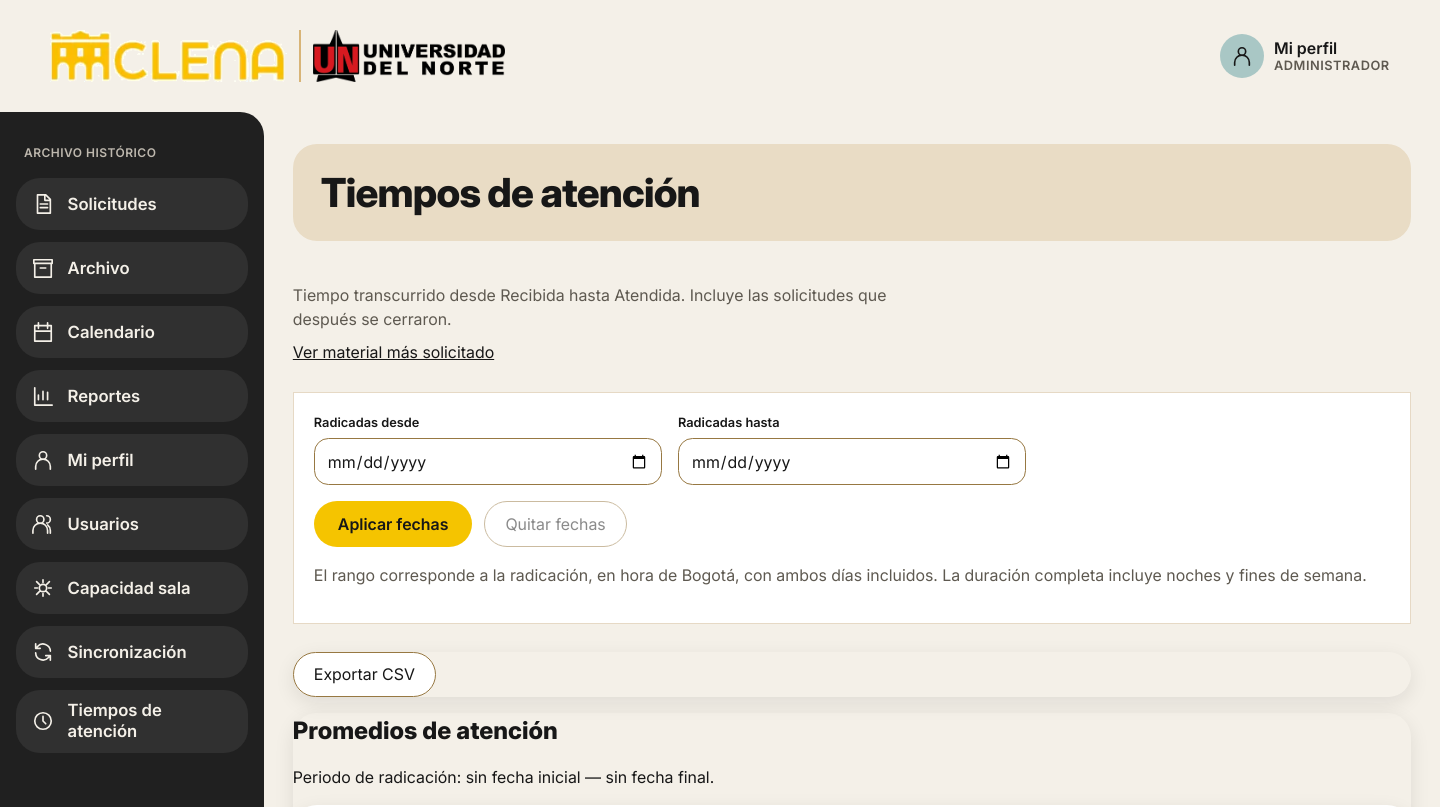
Scenario: CSV export UI › downloads attention-times with applied filters, ignoring edits not yet applied
Expected: the button "Exportar CSV" is enabled, [293,652,436,697]
Type "2026-11-01" into the date field labelled "Radicadas desde".
click(488, 462); type("2026-11-01")  # box [314,438,662,485]
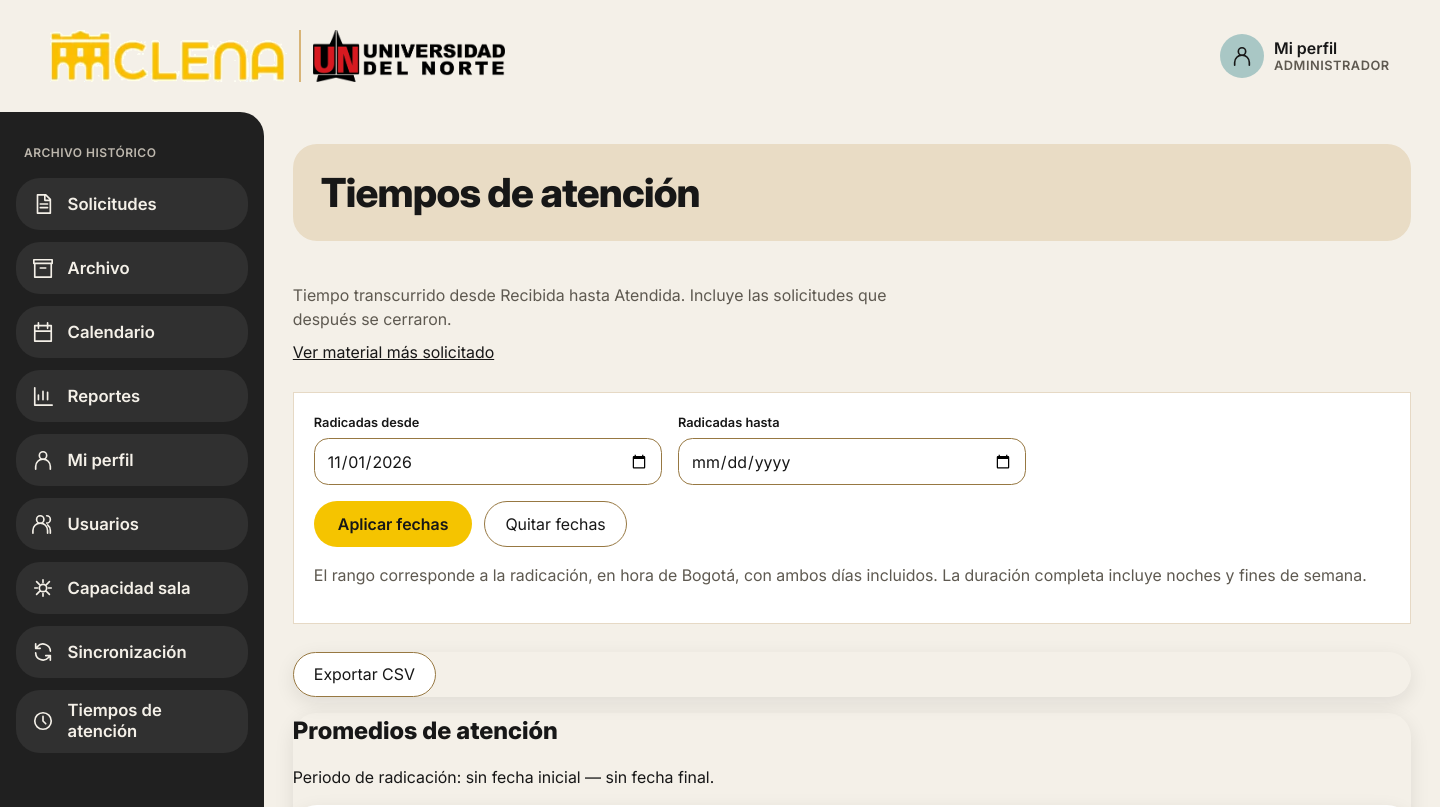
Type "2026-11-30" into the date field labelled "Radicadas hasta".
click(852, 462); type("2026-11-30")  # box [678,438,1026,485]
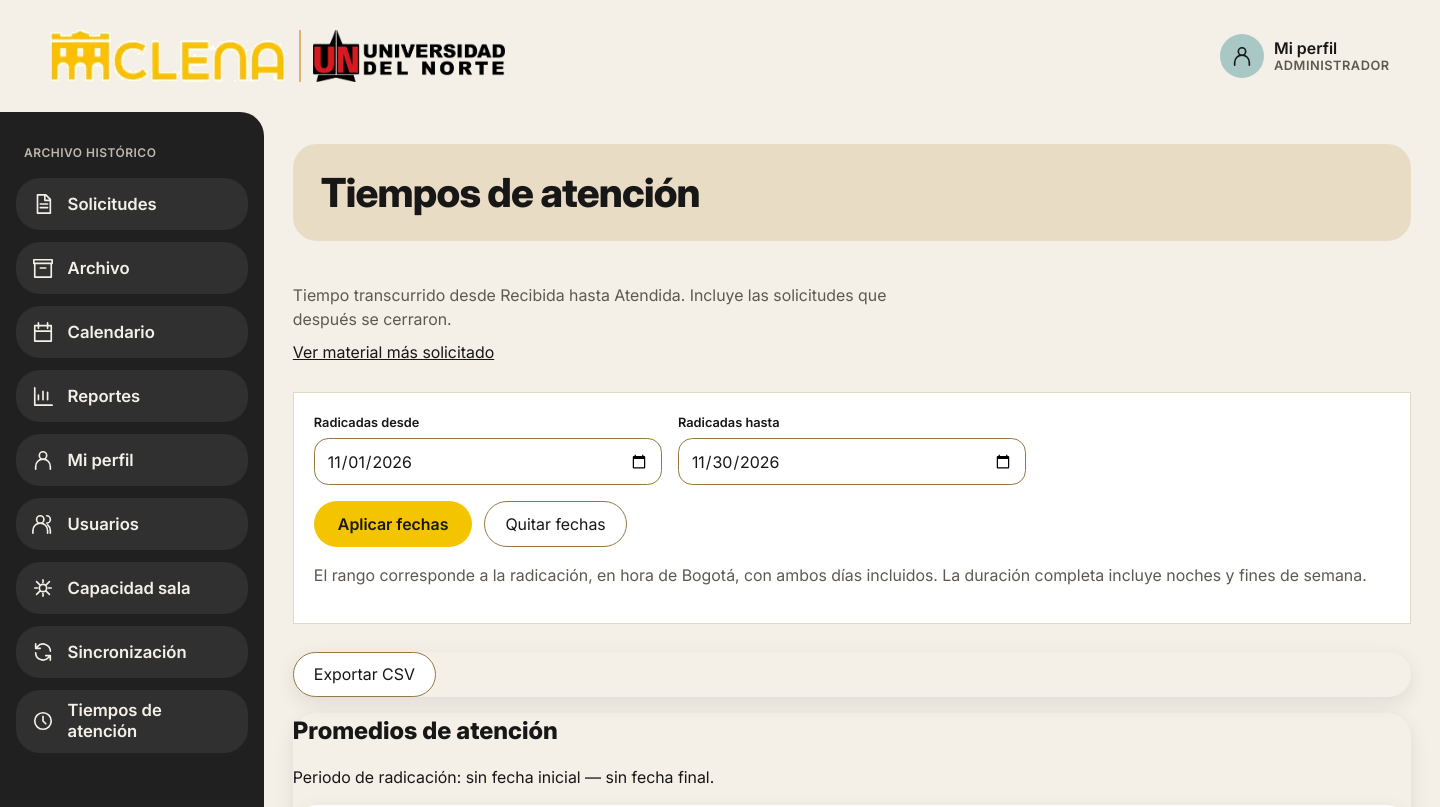
Click the button "Aplicar fechas".
click(393, 524)  # box [314,501,472,546]
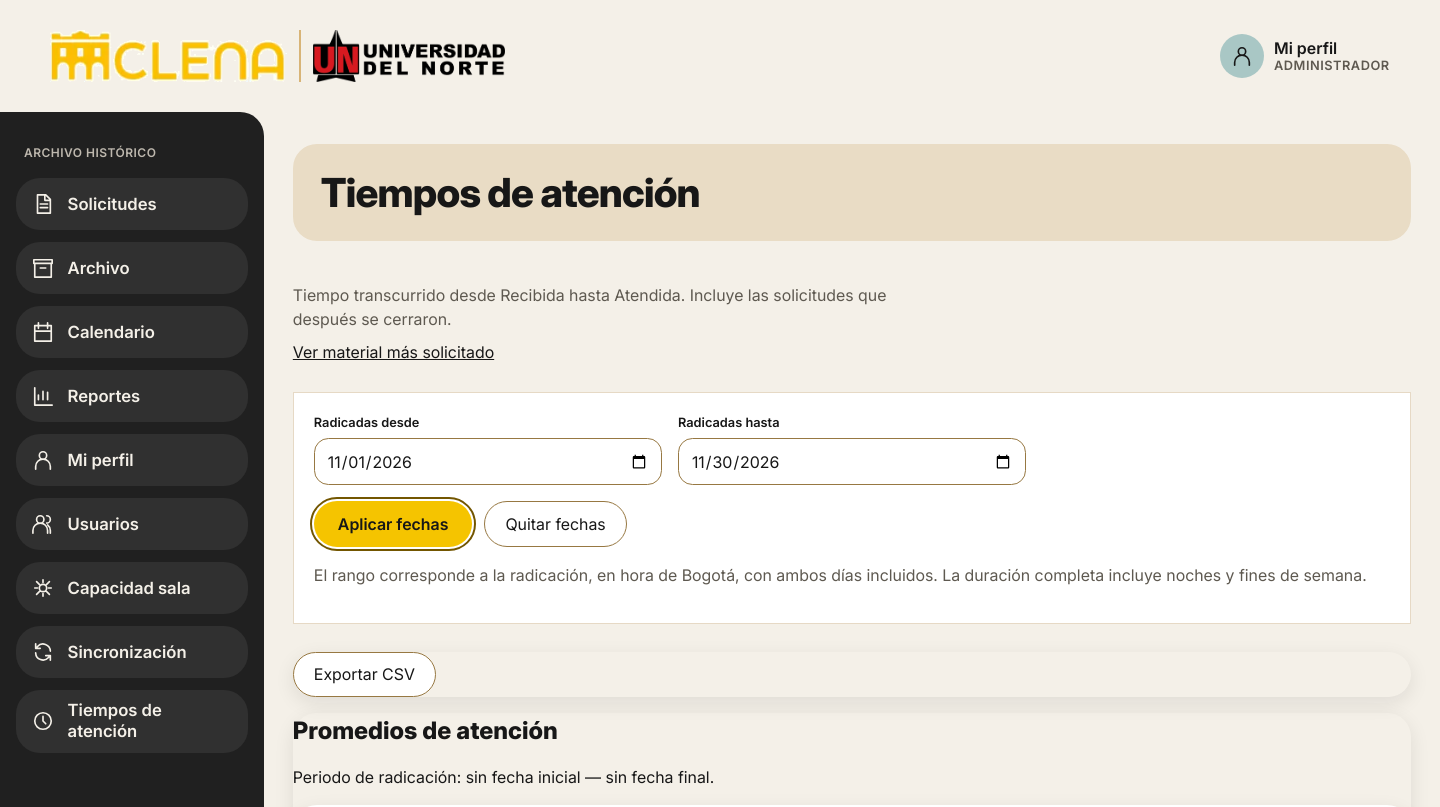
Expected: the button "Exportar CSV" is enabled, [293,652,436,697]
Type "2027-01-01" into the date field labelled "Radicadas desde".
click(488, 462); type("2027-01-01")  # box [314,438,662,485]
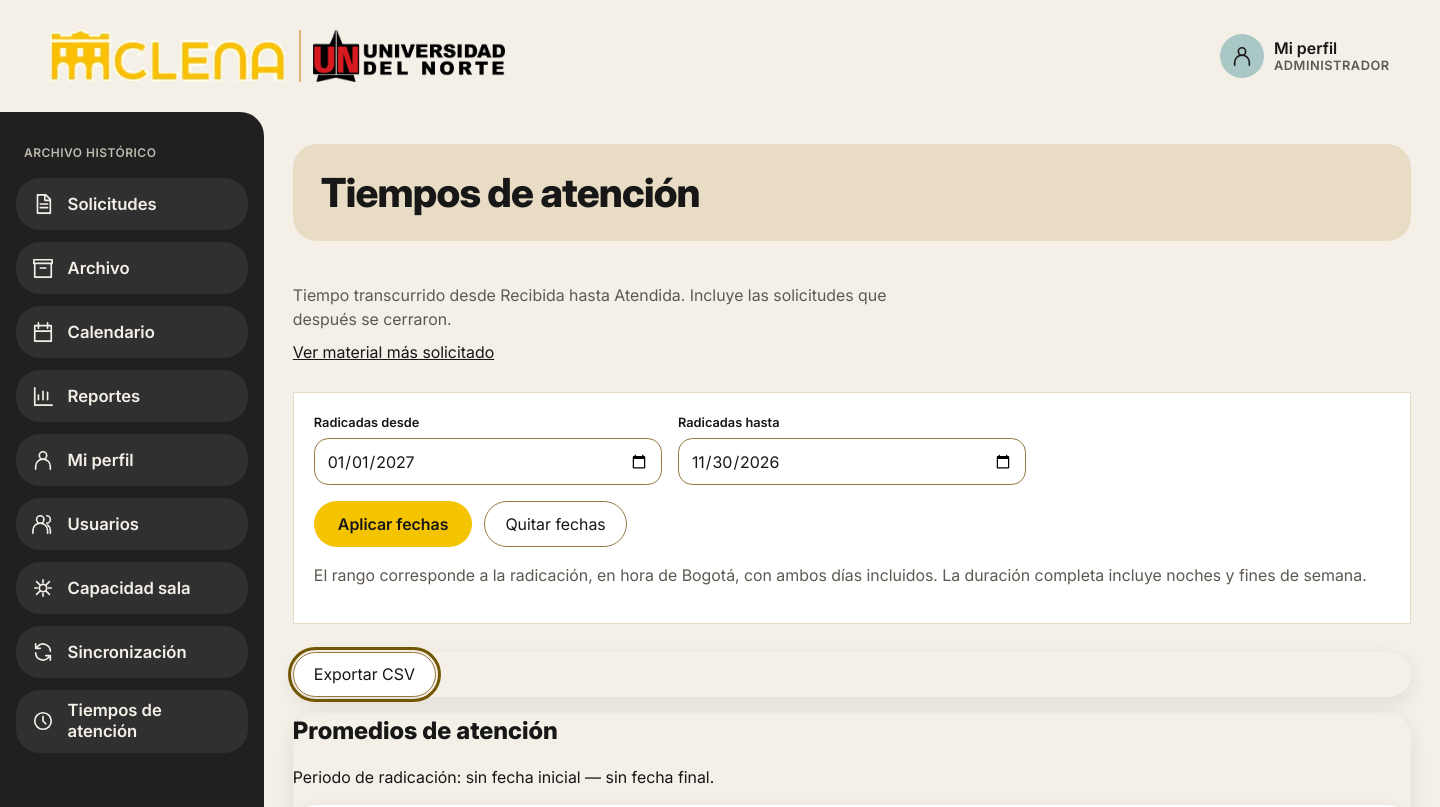
Press Enter
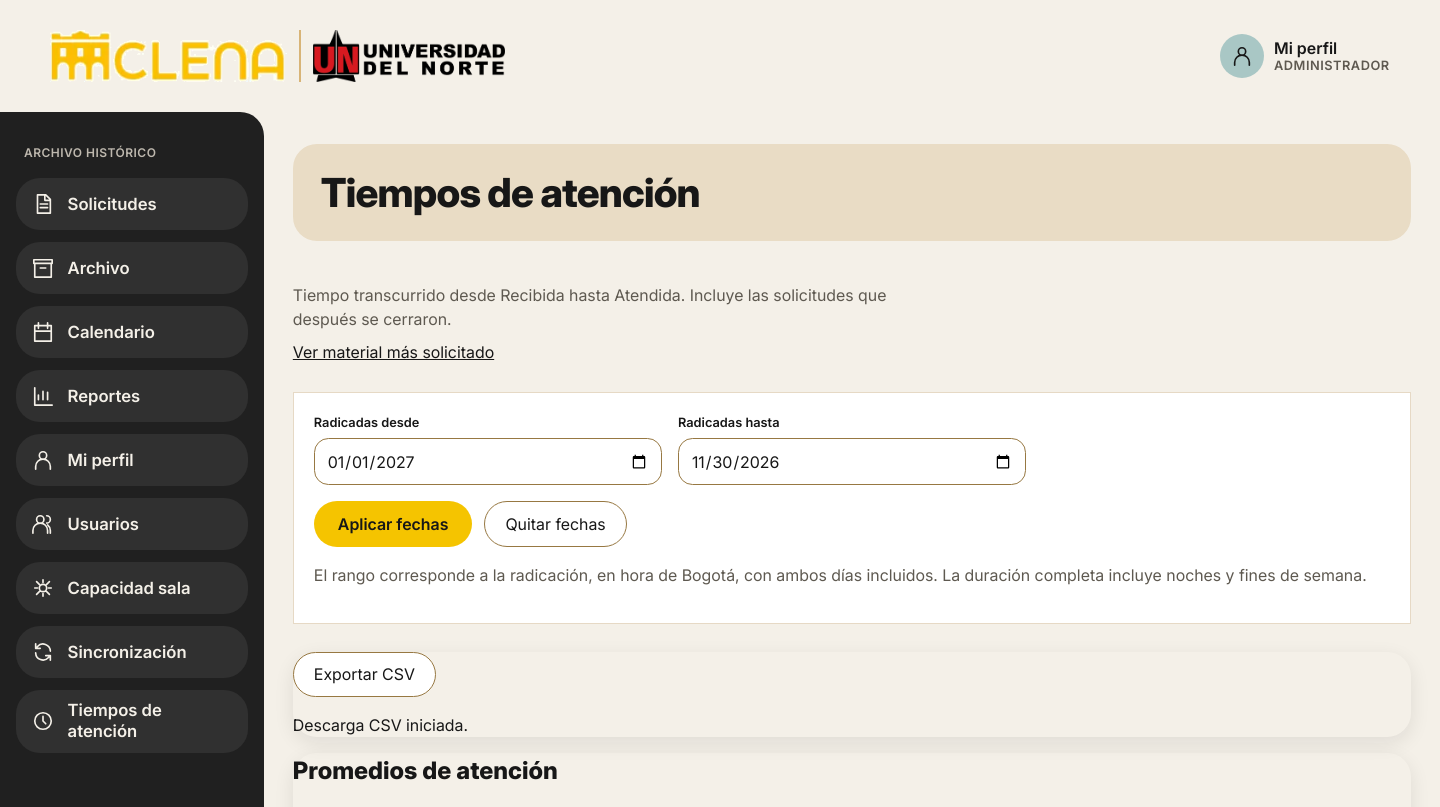
Now the text "Descarga CSV iniciada." is shown, box [293,713,468,737]
